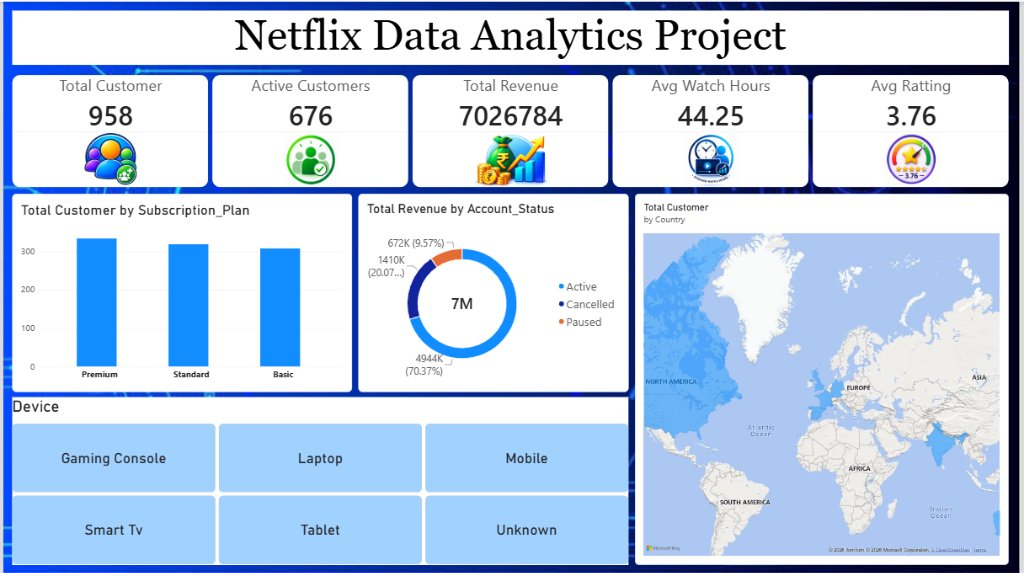

This screenshot's page, from the dashboard's own definition file:
{"tool":"powerbi","page":{"name":"Page 1","canvas":[1920,1080],"ordinal":0},"visuals":[{"type":"textbox","box":[16.7,16.7,1882.5,102.6],"z":0},{"type":"cardVisual","fields":{"Data":["DAX Measurs.Total Customer","DAX Measurs.Active Customers","DAX Measurs.Total Revenue","DAX Measurs.Avg Watch Hours","DAX Measurs.Avg Ratting"]},"box":[16.7,138.4,1882.5,212.3],"z":1},{"type":"columnChart","fields":{"Category":["Netflix_Customer.Subscription_Plan"],"Y":["DAX Measurs.Total Customer"]},"box":[16.7,362.7,641.8,374.6],"z":2},{"type":"donutChart","fields":{"Category":["Netflix_Customer.Account_Status"],"Y":["DAX Measurs.Total Revenue"]},"box":[670.4,362.7,510.6,374.6],"z":3},{"type":"filledMap","fields":{"Category":["Netflix_Customer.Country"]},"box":[1193,362.7,706.2,701.5],"z":4},{"type":"advancedSlicerVisual","fields":{"Values":["Netflix_Customer.Device"]},"box":[16.7,746.8,1164.3,317.3],"z":5}]}

Visuals, with their boxes in screenshot pixels (x1, y1, x2, y2), scaled from the page's 1920x1080 canvas onto the 1024x573 screenshot:
textbox: {"left": 9, "top": 9, "right": 1013, "bottom": 63}
cardVisual - DAX Measurs.Total Customer x DAX Measurs.Active Customers: {"left": 9, "top": 73, "right": 1013, "bottom": 186}
columnChart - Netflix_Customer.Subscription_Plan x DAX Measurs.Total Customer: {"left": 9, "top": 192, "right": 351, "bottom": 391}
donutChart - Netflix_Customer.Account_Status x DAX Measurs.Total Revenue: {"left": 358, "top": 192, "right": 630, "bottom": 391}
filledMap - Netflix_Customer.Country: {"left": 636, "top": 192, "right": 1013, "bottom": 565}
advancedSlicerVisual - Netflix_Customer.Device: {"left": 9, "top": 396, "right": 630, "bottom": 565}
